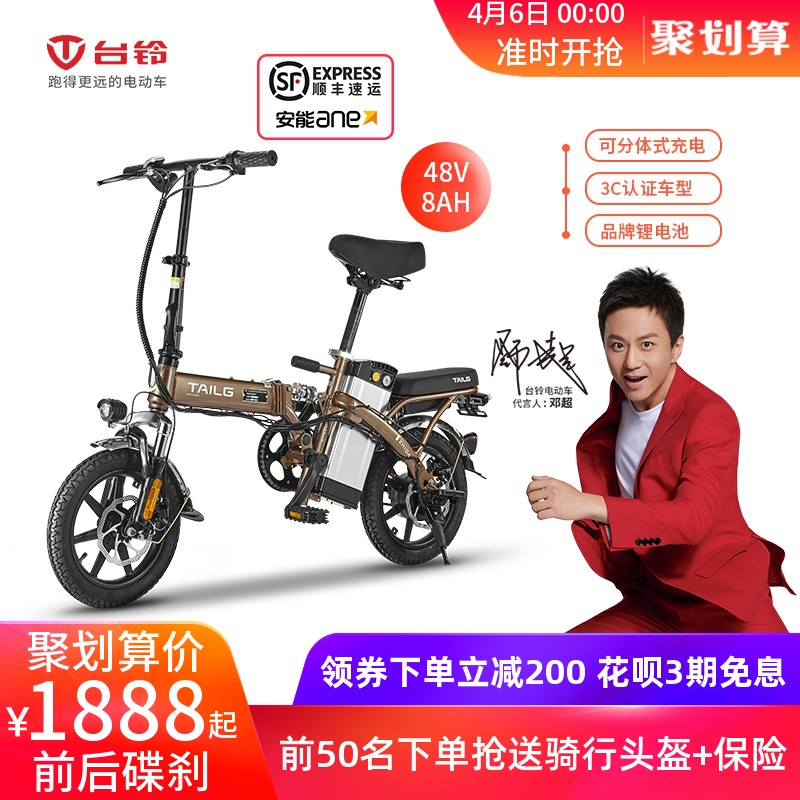电动车: (39, 148, 502, 625)
